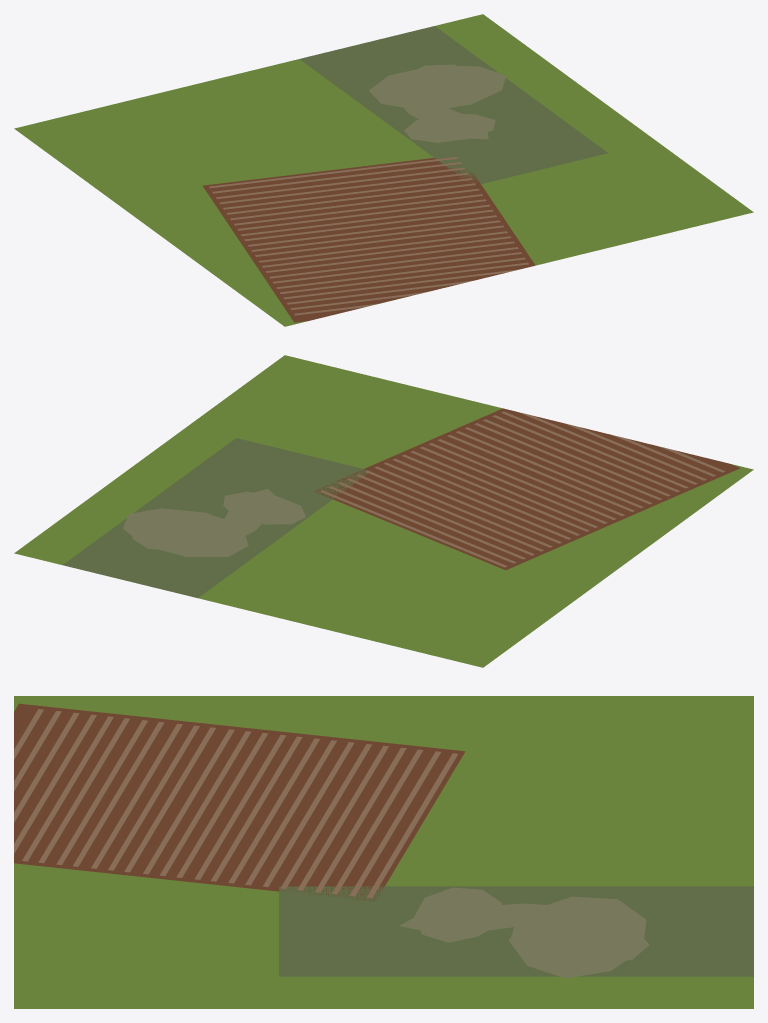
Rendered from crossing-11-1.glb.
3 renders of one model, top to bottom at view 1: azimuth 30°, elevation 25°; view 2: azimuth 150°, elevation 25°; view 3: azimuth 270°, elevation 25°, orthographic. The views are drawn at different scales.
Visible parts, largest first — view 1: crossing-11-1; view 2: crossing-11-1; view 3: crossing-11-1.
Part boxes in pixels (x1,y1,x2,y2): crossing-11-1: (14, 14, 753, 326); crossing-11-1: (14, 355, 753, 667); crossing-11-1: (14, 696, 753, 1008).
Size of the model in its own units: 100 by 0.0064 by 100.
